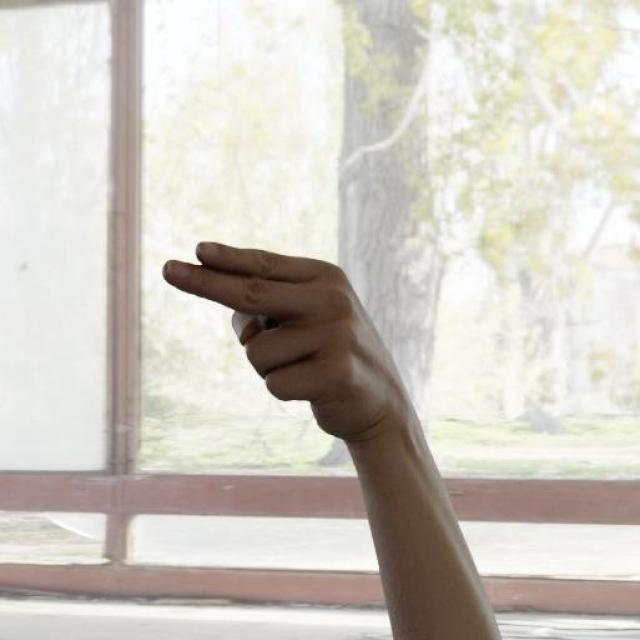H: (157, 236, 401, 435)
